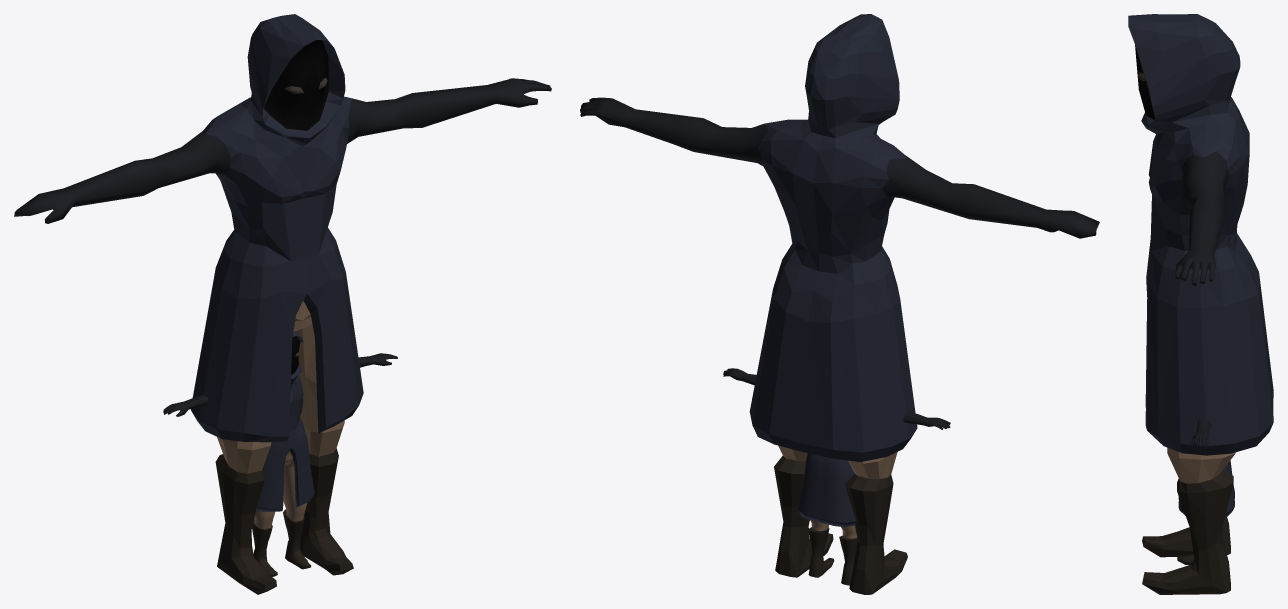
The model's file is wizard4.obj.
3 views of the same model, side by side, from view 1: azimuth 30°, elevation 25°; view 2: azimuth 150°, elevation 25°; view 3: azimuth 270°, elevation 25° (orthographic). The views are drawn at different scales.
Parts seen in each view (by area): view 1: Cube.001, Cube.002; view 2: Cube.001, Cube.002; view 3: Cube.001, Cube.002.
Part boxes in pixels (x1,y1,x2,y2): Cube.001: [14, 14, 551, 594]; Cube.002: [163, 331, 397, 576]; Cube.001: [580, 14, 1099, 594]; Cube.002: [723, 368, 950, 585]; Cube.001: [1128, 14, 1273, 594]; Cube.002: [1177, 419, 1234, 564].
Bounding box in the file's own units: 12.58 × 12.55 × 2.97.
